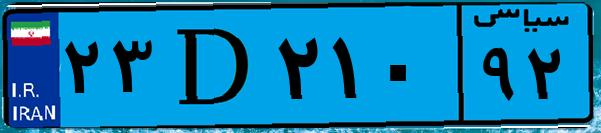0: (385, 28, 445, 110)
1: (330, 28, 385, 110)
2: (270, 28, 330, 110), (57, 26, 110, 100), (525, 38, 570, 115)
3: (110, 28, 158, 98)
9: (475, 38, 525, 113)
D: (158, 12, 270, 120)
